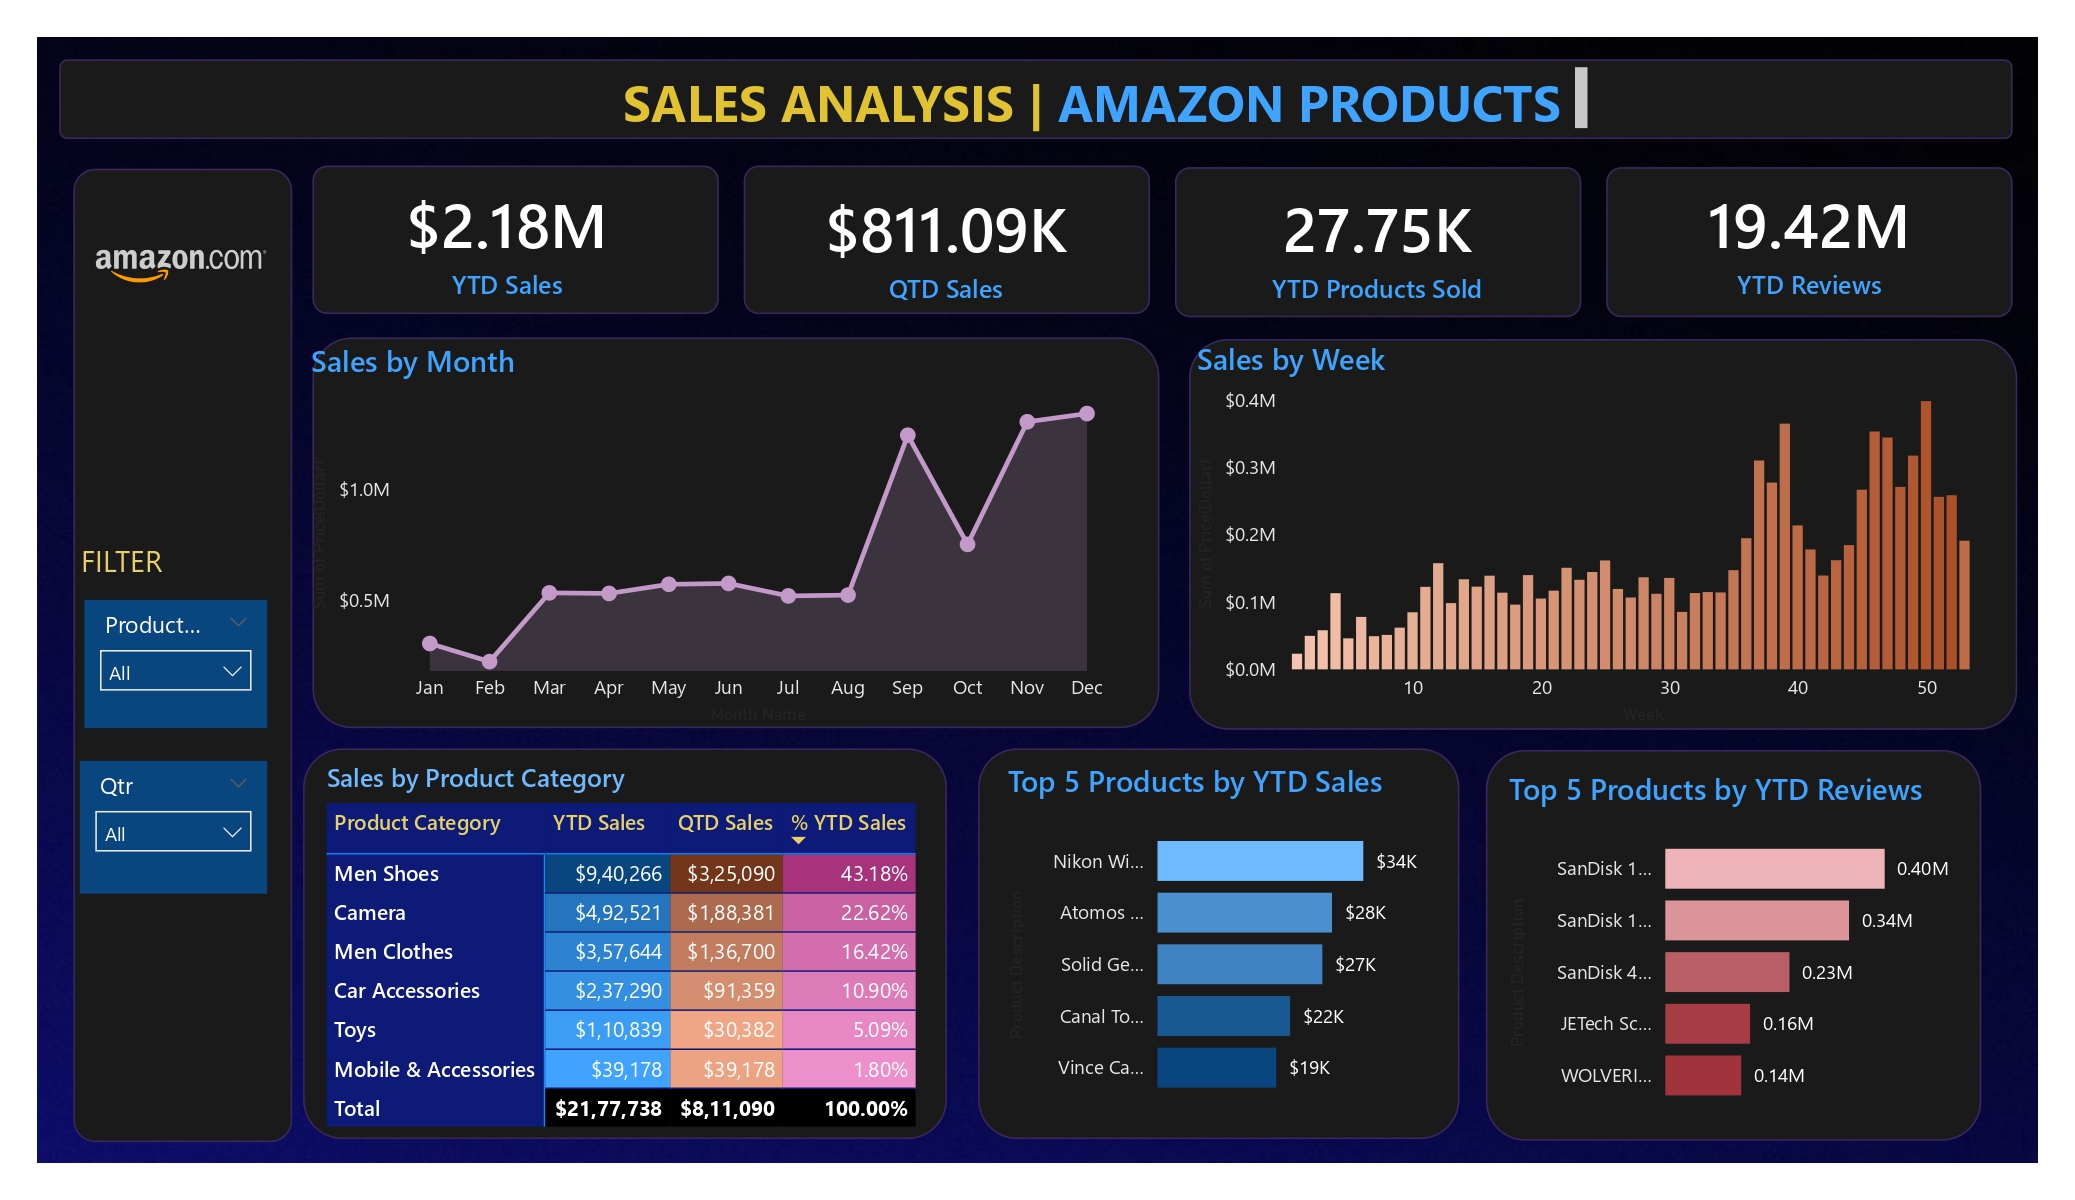

What the dashboard file says about the page in this screenshot:
{"tool":"powerbi","page":{"name":"Page 1","canvas":[1280,720],"ordinal":0},"visuals":[{"type":"shape","box":[14.5,14.5,1249.9,50.7],"z":0},{"type":"shape","box":[176.1,82,260,95],"z":1000},{"type":"textbox","box":[370.4,14.5,626.1,50.7],"z":2000},{"type":"card","fields":{"Values":["Amazon_Data.YTD Sales"]},"box":[176.1,82,248.5,95.3],"z":3000},{"type":"shape","box":[22.9,84.5,139.9,622.5],"z":4000},{"type":"shape","box":[451.6,82,260.6,95.3],"z":5000},{"type":"card","fields":{"Values":["Amazon_Data.QTD Sales"]},"box":[460.9,84.5,241.3,95.3],"z":6000},{"type":"shape","box":[727.7,83.2,260.6,95.3],"z":7000},{"type":"shape","box":[176.1,191.8,541.7,249.7],"z":8000},{"type":"shape","box":[1003.8,83.2,260.6,95.3],"z":9000},{"type":"card","fields":{"Values":["Amazon_Data.YTD Products Sold"]},"box":[737.1,84.5,241.3,95.3],"z":10000},{"type":"card","fields":{"Values":["Amazon_Data.YTD Reviews"]},"box":[1013.4,82,241.3,95.3],"z":11000},{"type":"shape","box":[170.1,454.8,411.4,249.7],"z":11500},{"type":"areaChart","title":"Sales by Month","fields":{"Category":["Date Table.Month Name"],"Y":["Amazon_Data.Price(Dollar)"]},"box":[170.1,194.2,522.4,249.7],"z":12000},{"type":"shape","box":[737.1,193,529.6,249.7],"z":13000},{"type":"columnChart","title":"Sales by Week","fields":{"Category":["Date Table.Week"],"Y":["Amazon_Data.Price(Dollar)"]},"box":[737.1,193,524.8,250.9],"z":14000},{"type":"pivotTable","title":"Sales by Product Category","fields":{"Rows":["Amazon_Data.Product Category"],"Values":["Amazon_Data.YTD Sales1","Amazon_Data.QTD Sales","Amazon_Data.YTD Sales"]},"box":[179.8,463.3,401.7,241.3],"z":16000},{"type":"shape","box":[602,454.8,307.6,249.7],"z":16001},{"type":"shape","box":[926.5,456,317.3,249.7],"z":16002},{"type":"clusteredBarChart","title":"Top 5 Products by YTD Sales","fields":{"Category":["Amazon_Data.Product Description"],"Y":["Amazon_Data.YTD Sales"]},"box":[616.5,463.3,281.1,228],"z":16003},{"type":"clusteredBarChart","title":"Top 5 Products by YTD Reviews","fields":{"Category":["Amazon_Data.Product Description"],"Y":["Amazon_Data.YTD Reviews"]},"box":[937.4,468.1,295.6,228],"z":16004},{"type":"slicer","fields":{"Values":["Amazon_Data.Product Category"]},"box":[21.7,357.1,125.5,85.7],"z":16005},{"type":"slicer","fields":{"Values":["Date Table.Qtr"]},"box":[21.7,463.3,125.5,85.7],"z":16006},{"type":"image","box":[7.2,83.2,155.6,129.1],"z":16007},{"type":"textbox","box":[22.9,317.3,63.9,37.4],"z":16008}]}

Visuals, with their boxes on the page's 1280x720 design canvas (x1, y1, x2, y2). These are canvas units, not pixel positions in the 2075x1200 screenshot, which may show the page scaled, cropped or inside an application window:
shape: [x1=14, y1=14, x2=1264, y2=65]
shape: [x1=176, y1=82, x2=436, y2=177]
textbox: [x1=370, y1=14, x2=996, y2=65]
card - Amazon_Data.YTD Sales: [x1=176, y1=82, x2=425, y2=177]
shape: [x1=23, y1=84, x2=163, y2=707]
shape: [x1=452, y1=82, x2=712, y2=177]
card - Amazon_Data.QTD Sales: [x1=461, y1=84, x2=702, y2=180]
shape: [x1=728, y1=83, x2=988, y2=178]
shape: [x1=176, y1=192, x2=718, y2=442]
shape: [x1=1004, y1=83, x2=1264, y2=178]
card - Amazon_Data.YTD Products Sold: [x1=737, y1=84, x2=978, y2=180]
card - Amazon_Data.YTD Reviews: [x1=1013, y1=82, x2=1255, y2=177]
shape: [x1=170, y1=455, x2=582, y2=704]
"Sales by Month" areaChart: [x1=170, y1=194, x2=692, y2=444]
shape: [x1=737, y1=193, x2=1267, y2=443]
"Sales by Week" columnChart: [x1=737, y1=193, x2=1262, y2=444]
"Sales by Product Category" pivotTable: [x1=180, y1=463, x2=582, y2=705]
shape: [x1=602, y1=455, x2=910, y2=704]
shape: [x1=926, y1=456, x2=1244, y2=706]
"Top 5 Products by YTD Sales" clusteredBarChart: [x1=616, y1=463, x2=898, y2=691]
"Top 5 Products by YTD Reviews" clusteredBarChart: [x1=937, y1=468, x2=1233, y2=696]
slicer - Amazon_Data.Product Category: [x1=22, y1=357, x2=147, y2=443]
slicer - Date Table.Qtr: [x1=22, y1=463, x2=147, y2=549]
image: [x1=7, y1=83, x2=163, y2=212]
textbox: [x1=23, y1=317, x2=87, y2=355]
